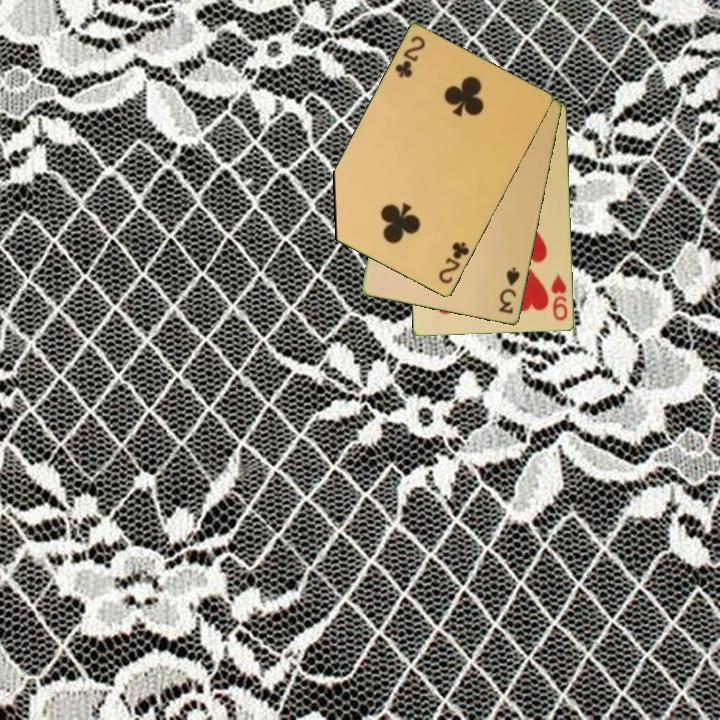2c: (435, 239, 473, 287), (392, 32, 428, 81)
3s: (496, 264, 523, 317)
9h: (548, 272, 571, 323)
